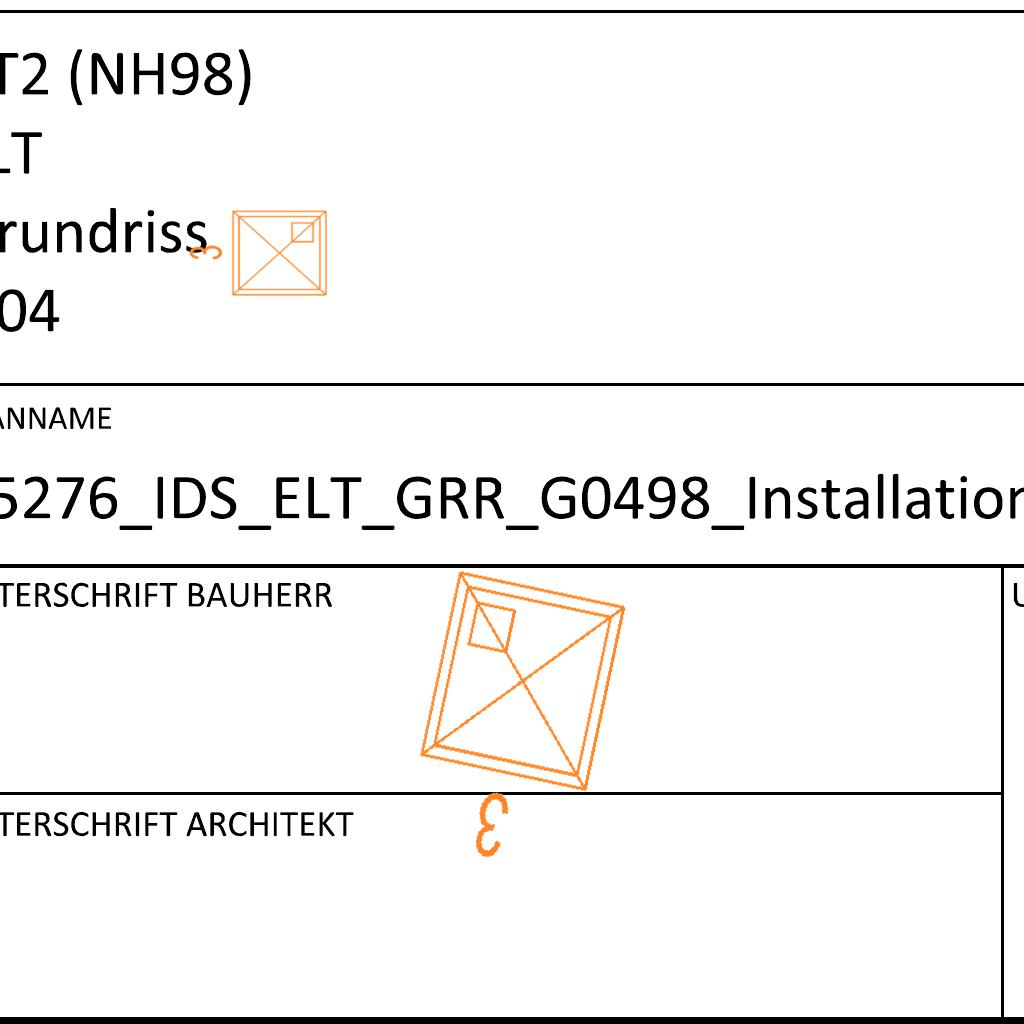Einbaudownlights_LED_Konferenzraeume: (385, 553, 651, 891), (184, 203, 334, 307)
